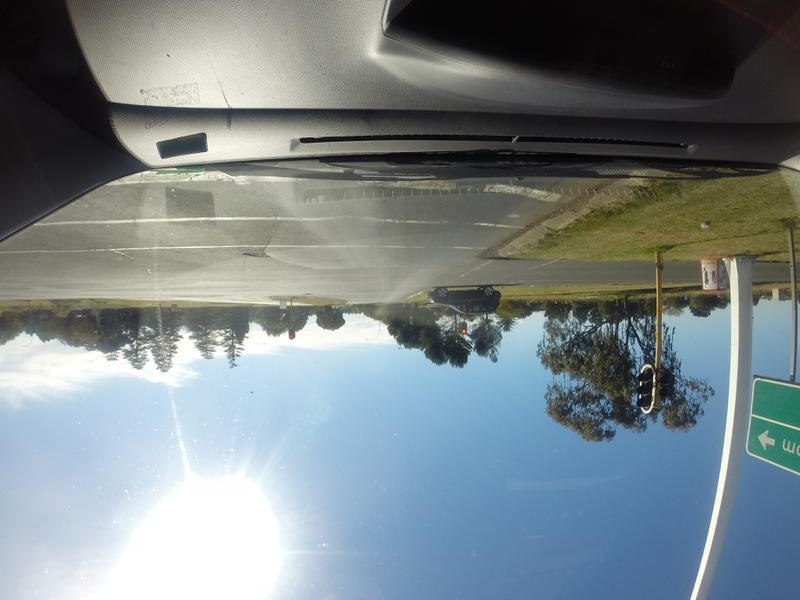pothole: (236, 248, 271, 258)
